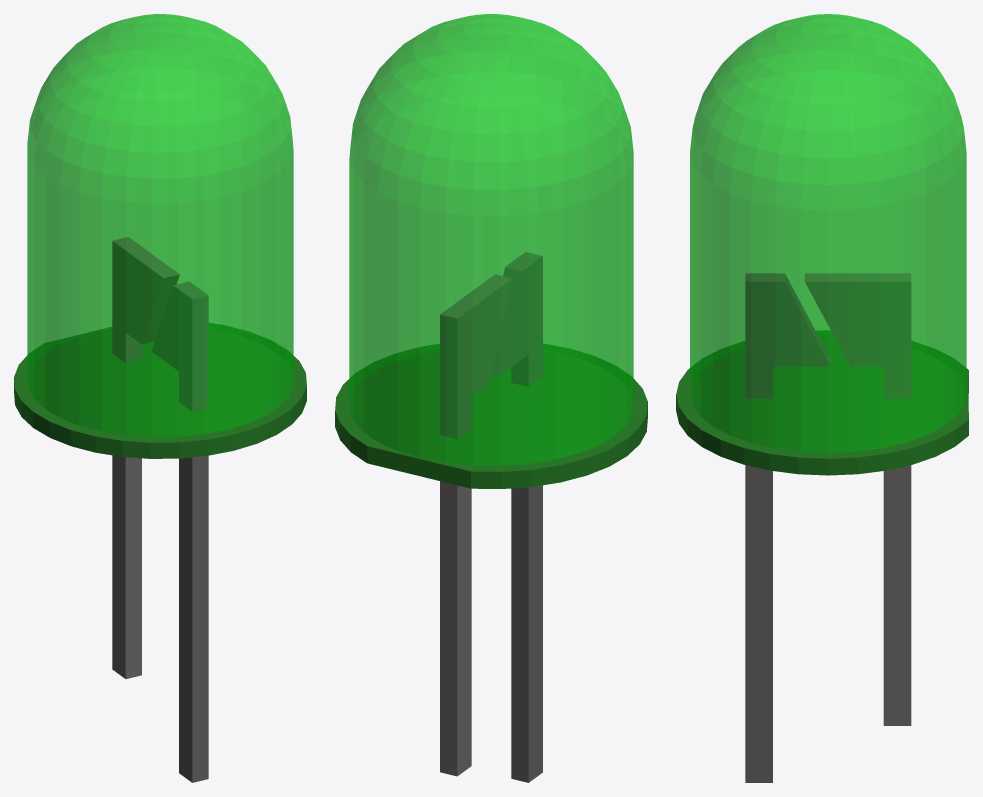
The model's file is LED .glb.
The picture shows the model from 3 angles, left to right: view 1: azimuth 30°, elevation 25°; view 2: azimuth 150°, elevation 25°; view 3: azimuth 270°, elevation 25°; orthographic projection. The views are drawn at different scales.
Parts seen in each view (by area): view 1: Cilindro, Cilindro.001, Cubo, Cubo.001; view 2: Cilindro, Cilindro.001, Cubo.001, Cubo; view 3: Cilindro, Cilindro.001, Cubo.001, Cubo.
Boxes of the visible parts, <box> form: Cilindro: <box>27,14,293,437</box>; Cilindro.001: <box>14,323,306,458</box>; Cubo: <box>151,281,208,782</box>; Cubo.001: <box>112,237,179,678</box>; Cilindro: <box>349,14,633,465</box>; Cilindro.001: <box>335,343,647,488</box>; Cubo.001: <box>440,274,511,776</box>; Cubo: <box>491,252,542,782</box>; Cilindro: <box>690,14,966,452</box>; Cilindro.001: <box>676,330,968,475</box>; Cubo.001: <box>804,273,911,725</box>; Cubo: <box>745,273,830,782</box>.
Size of the model in its own units: 2.2 by 6 by 2.12.
